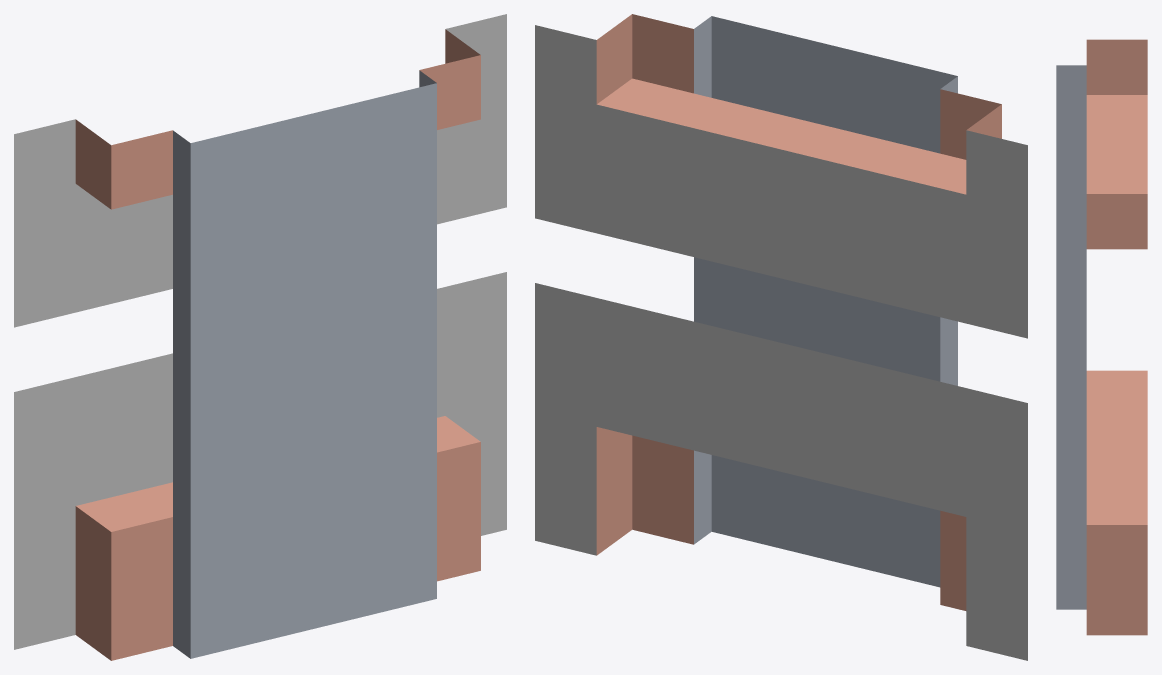
The model's file is cell_277.obj.
The picture shows the model from 3 angles, left to right: view 1: azimuth 30°, elevation 25°; view 2: azimuth 150°, elevation 25°; view 3: azimuth 270°, elevation 25°; orthographic projection. The views are drawn at different scales.
Bounding box in the file's own units: 1 × 1 × 0.1875.
